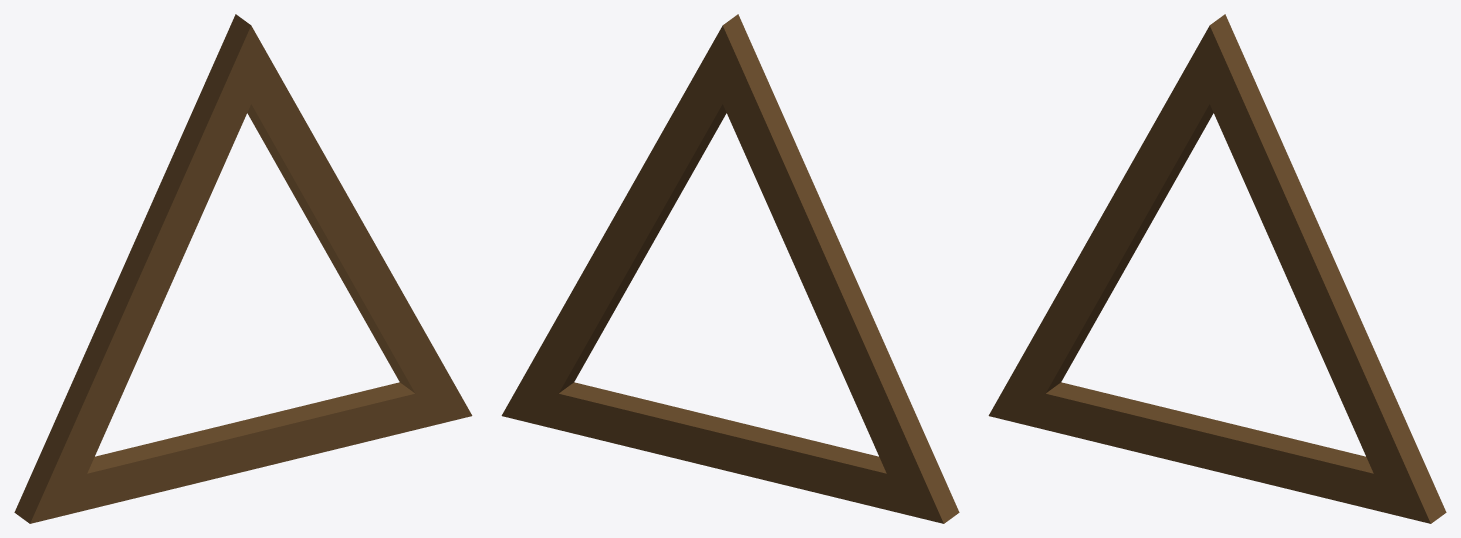
File: Symbol_B_Angular.fbx
3 views of the same model, side by side, from view 1: azimuth 30°, elevation 25°; view 2: azimuth 150°, elevation 25°; view 3: azimuth 330°, elevation 25° (orthographic).
Parts seen in each view (by area): view 1: Symbol_B_Angular; view 2: Symbol_B_Angular; view 3: Symbol_B_Angular.
Part boxes in pixels (x1,y1,x2,y2): Symbol_B_Angular: [14, 14, 472, 523]; Symbol_B_Angular: [501, 14, 959, 523]; Symbol_B_Angular: [988, 14, 1446, 523].
Bounding box in the file's own units: 0.5742 × 0.5512 × 0.035.
